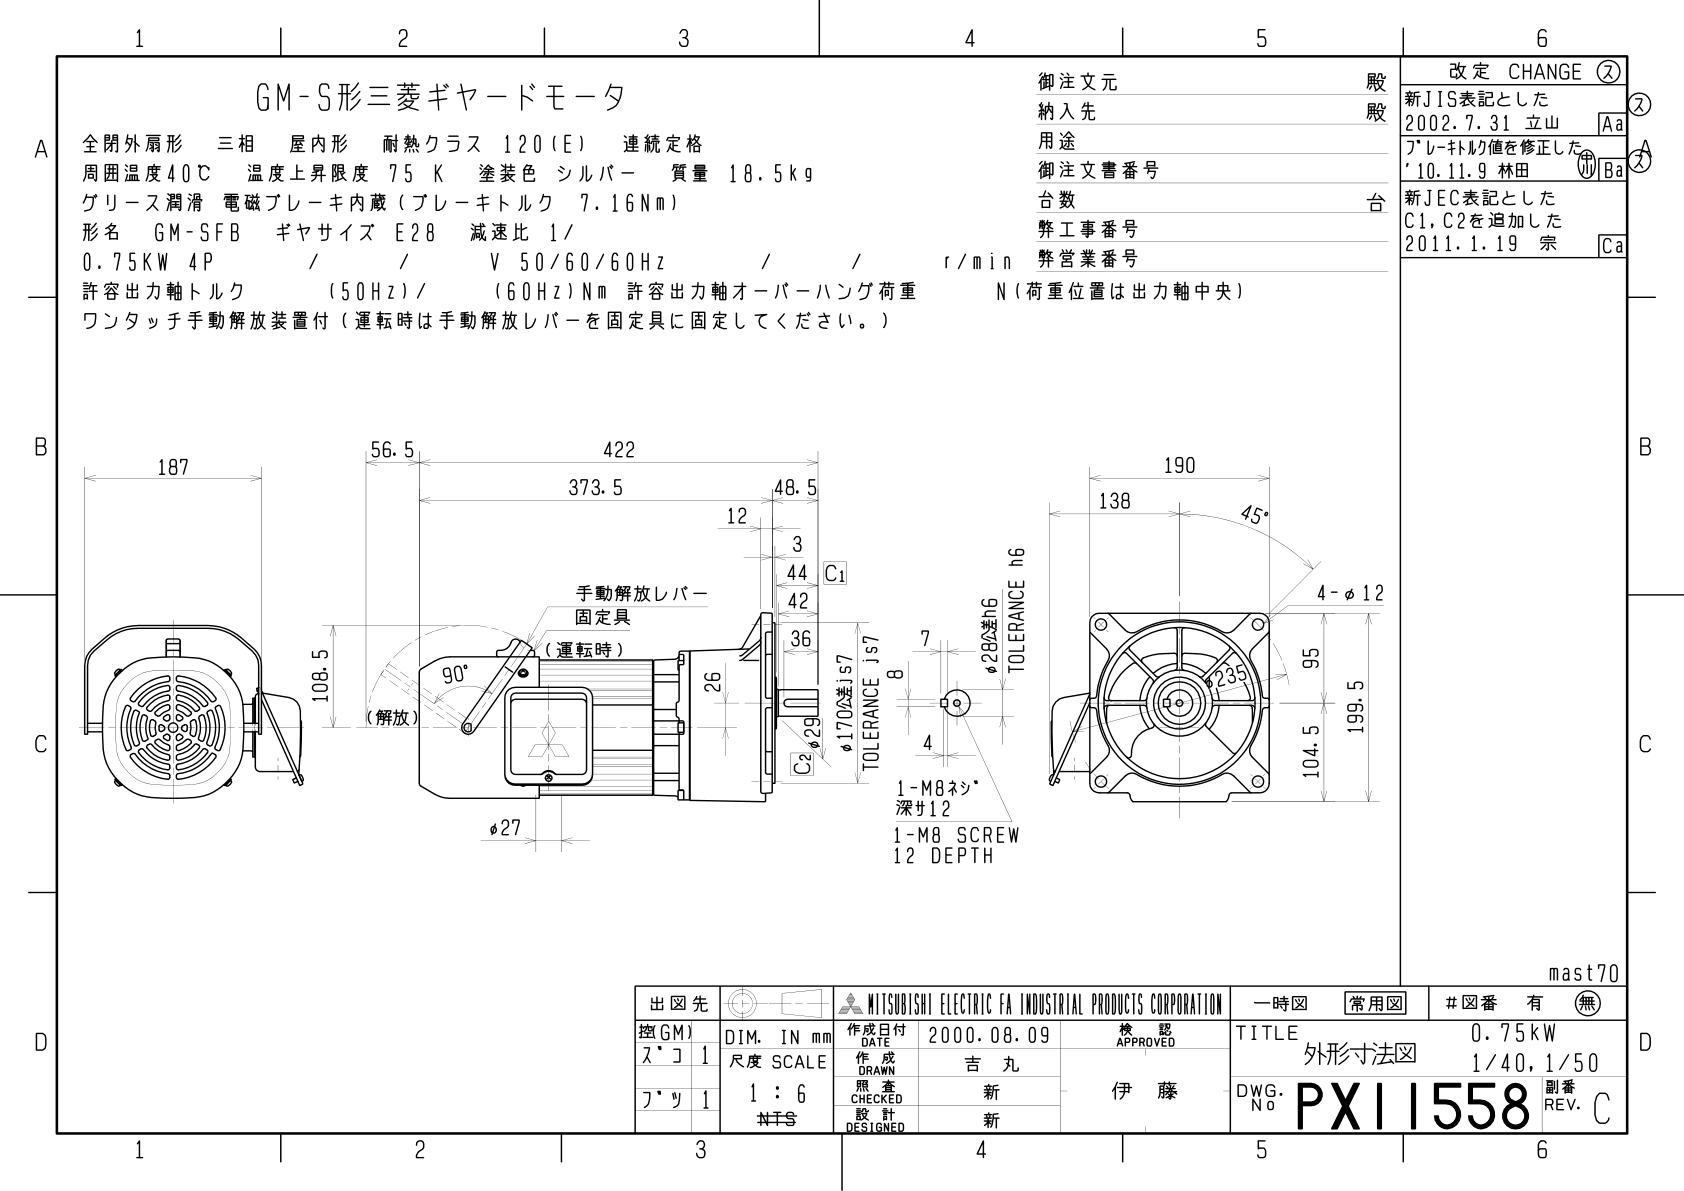GM_S_手動ブレーキ＿三相_フランジ: (67, 420, 1395, 882)
